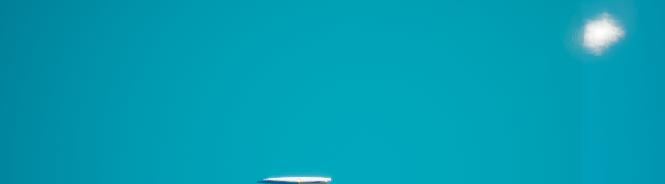land_base: (569, 2, 632, 63)
